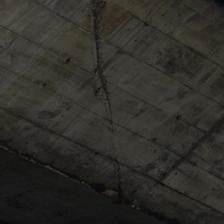Crack: (26, 12, 93, 115), (0, 0, 93, 35)
